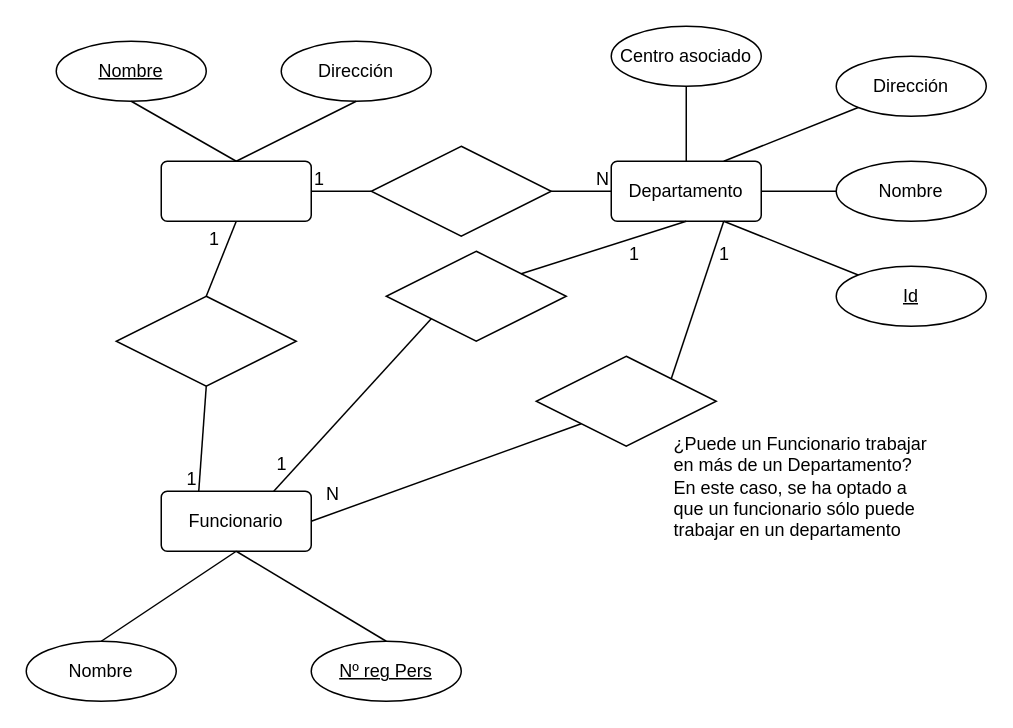
Image size: 1013x728. Some labels were removed from this diagram. Here are the shapes that lost their labels. From the top down, the centre of each, then its label:
the point at 235,190: Ministerio
the point at 460,190: Contiene
the point at 475,295: Dirigir
the point at 205,340: Preside
the point at 625,400: Trabajar
